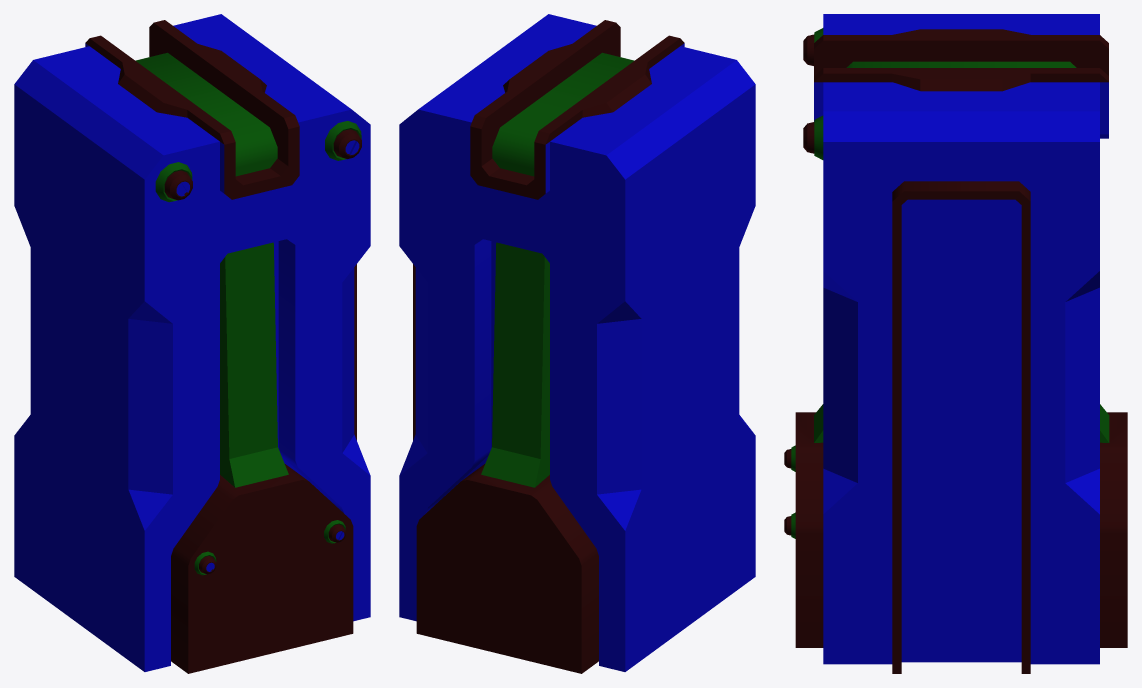
Rendered from SM_DefenseWallBorder01.FBX.
3 views of the same model, side by side, from view 1: azimuth 30°, elevation 25°; view 2: azimuth 150°, elevation 25°; view 3: azimuth 270°, elevation 25° (orthographic). The views are drawn at different scales.
Visible parts, largest first — view 1: Box008; view 2: Box008; view 3: Box008.
Part boxes in pixels (x1,y1,x2,y2): Box008: (14,14,370,673); Box008: (399,14,755,673); Box008: (784,14,1127,673).
Bounding box in the file's own units: 650 × 1320 × 744.
